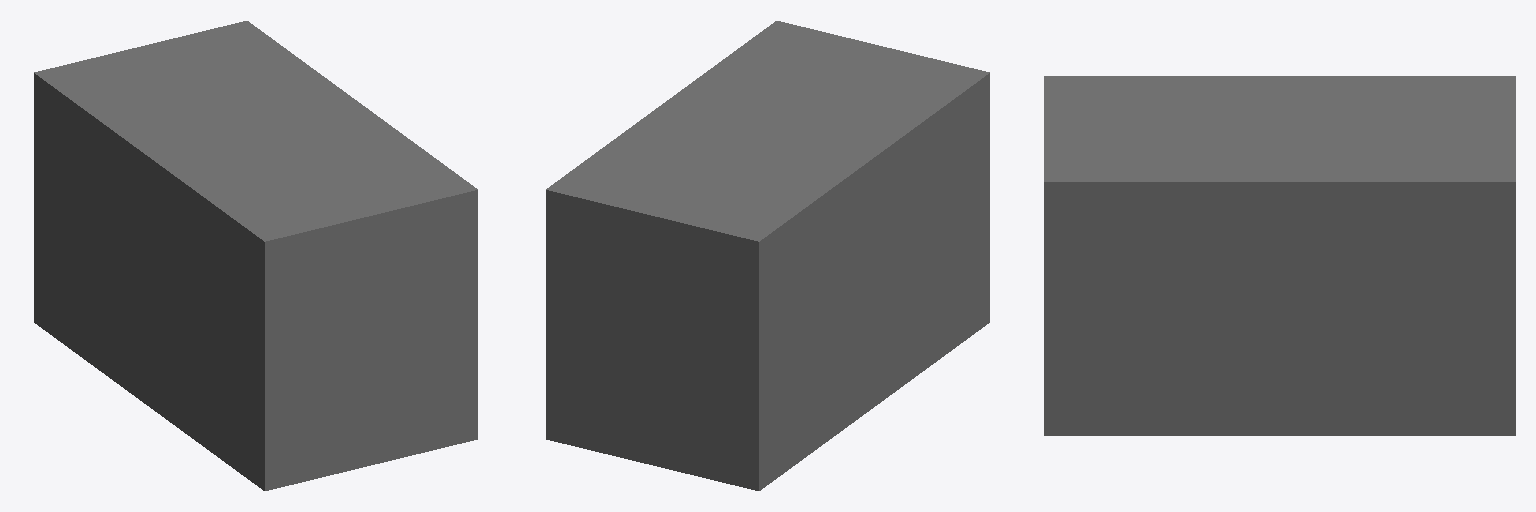
URDF robot description (box.urdf):
<?xml version="1.0" ?>
<robot name="box.urdf">
  <link name="baseLink">
    <contact>
      <lateral_friction value="1.0"/>
      <rolling_friction value="0.0001"/>
      <inertia_scaling value="3.0"/>
    </contact>
    <inertial>
      <origin rpy="0 0 0" xyz="0 0 0"/>
       <mass value="0.1"/>
       <inertia ixx="1" ixy="0" ixz="0" iyy="1" iyz="0" izz="1"/>
    </inertial>
    <visual>
      <origin rpy="0 0 0" xyz="0 0 0"/>
      <geometry>
        <!-- <box size="0.20600000000000002 0.386 0.23"/> -->
        <mesh filename="box/box.obj" scale="0.20600000000000002 0.386 0.23"/>
      </geometry>
      <material name="white">
        <color rgba="0.5 0.5 0.5 1"/>
      </material>
    </visual>
    <collision>
      <origin rpy="0 0 0" xyz="0 0 0"/>
      <geometry>
        <mesh filename="box/box.obj" scale="0.20600000000000002 0.386 0.23"/>
	 	    <!-- <box size="0.20600000000000002 0.386 0.23"/> -->
      </geometry>
    </collision>
  </link>
</robot>

--- What the picture shows (computed from the rendered views, not written in the file) ---
The picture shows the robot from 3 angles, left to right: view 1: azimuth 30°, elevation 25°; view 2: azimuth 150°, elevation 25°; view 3: azimuth 270°, elevation 25°; orthographic projection.
Robot: box.urdf — 1 links, 0 joints (none); root link baseLink; default pose: every joint at zero.
Links seen in each view (by area): view 1: baseLink; view 2: baseLink; view 3: baseLink.
Link boxes in pixels (<box>): baseLink: <box>34,21,477,490</box>; baseLink: <box>546,21,989,490</box>; baseLink: <box>1044,76,1515,435</box>.
Bounding box of the posed robot: 0.206 × 0.386 × 0.23 m (x, y, z).
Meshes: 1 distinct files referenced, 1 mesh visuals loaded (1 OBJ).
